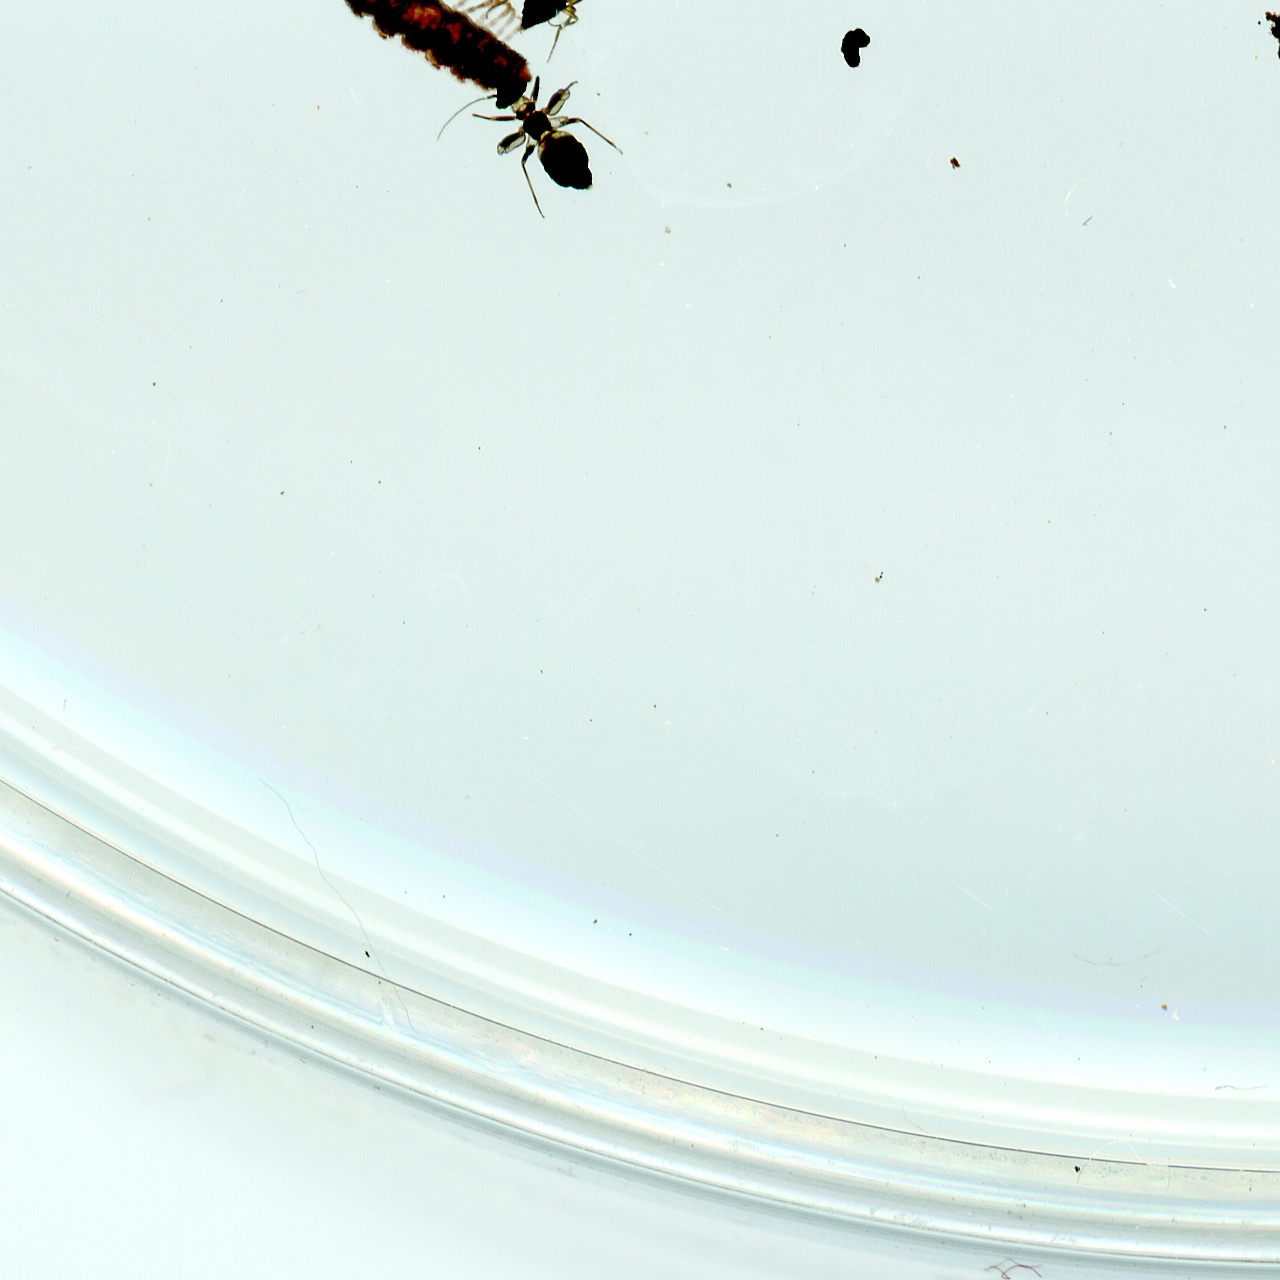arthropod: (423, 35, 640, 251), (294, 0, 542, 98), (479, 0, 613, 68)
